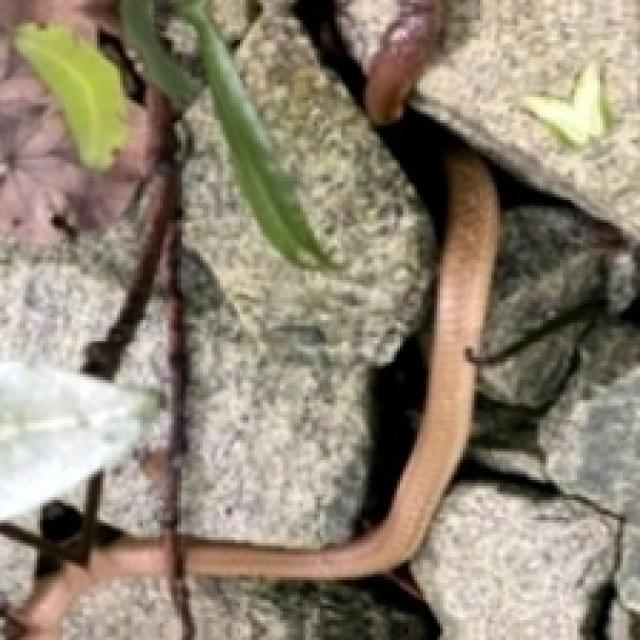king cobra: (17, 106, 534, 637), (177, 0, 326, 263)
